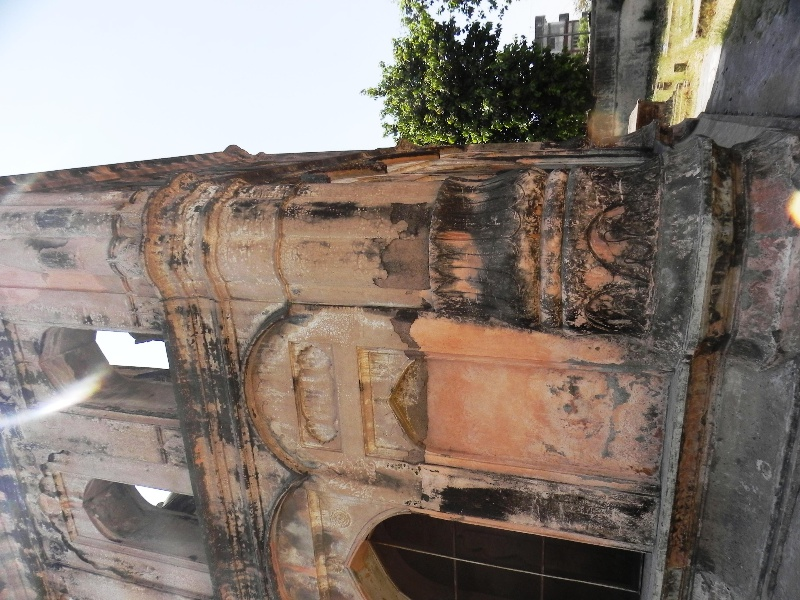Spalling: (373, 226, 435, 295)
